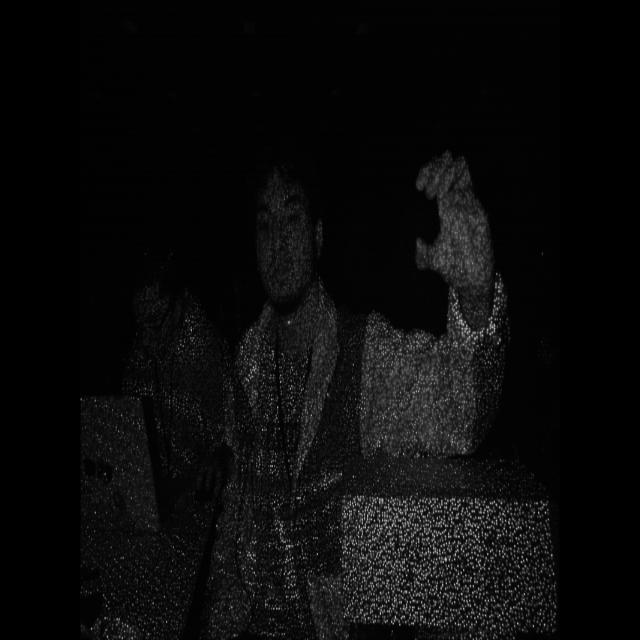C: (404, 136, 504, 302)
